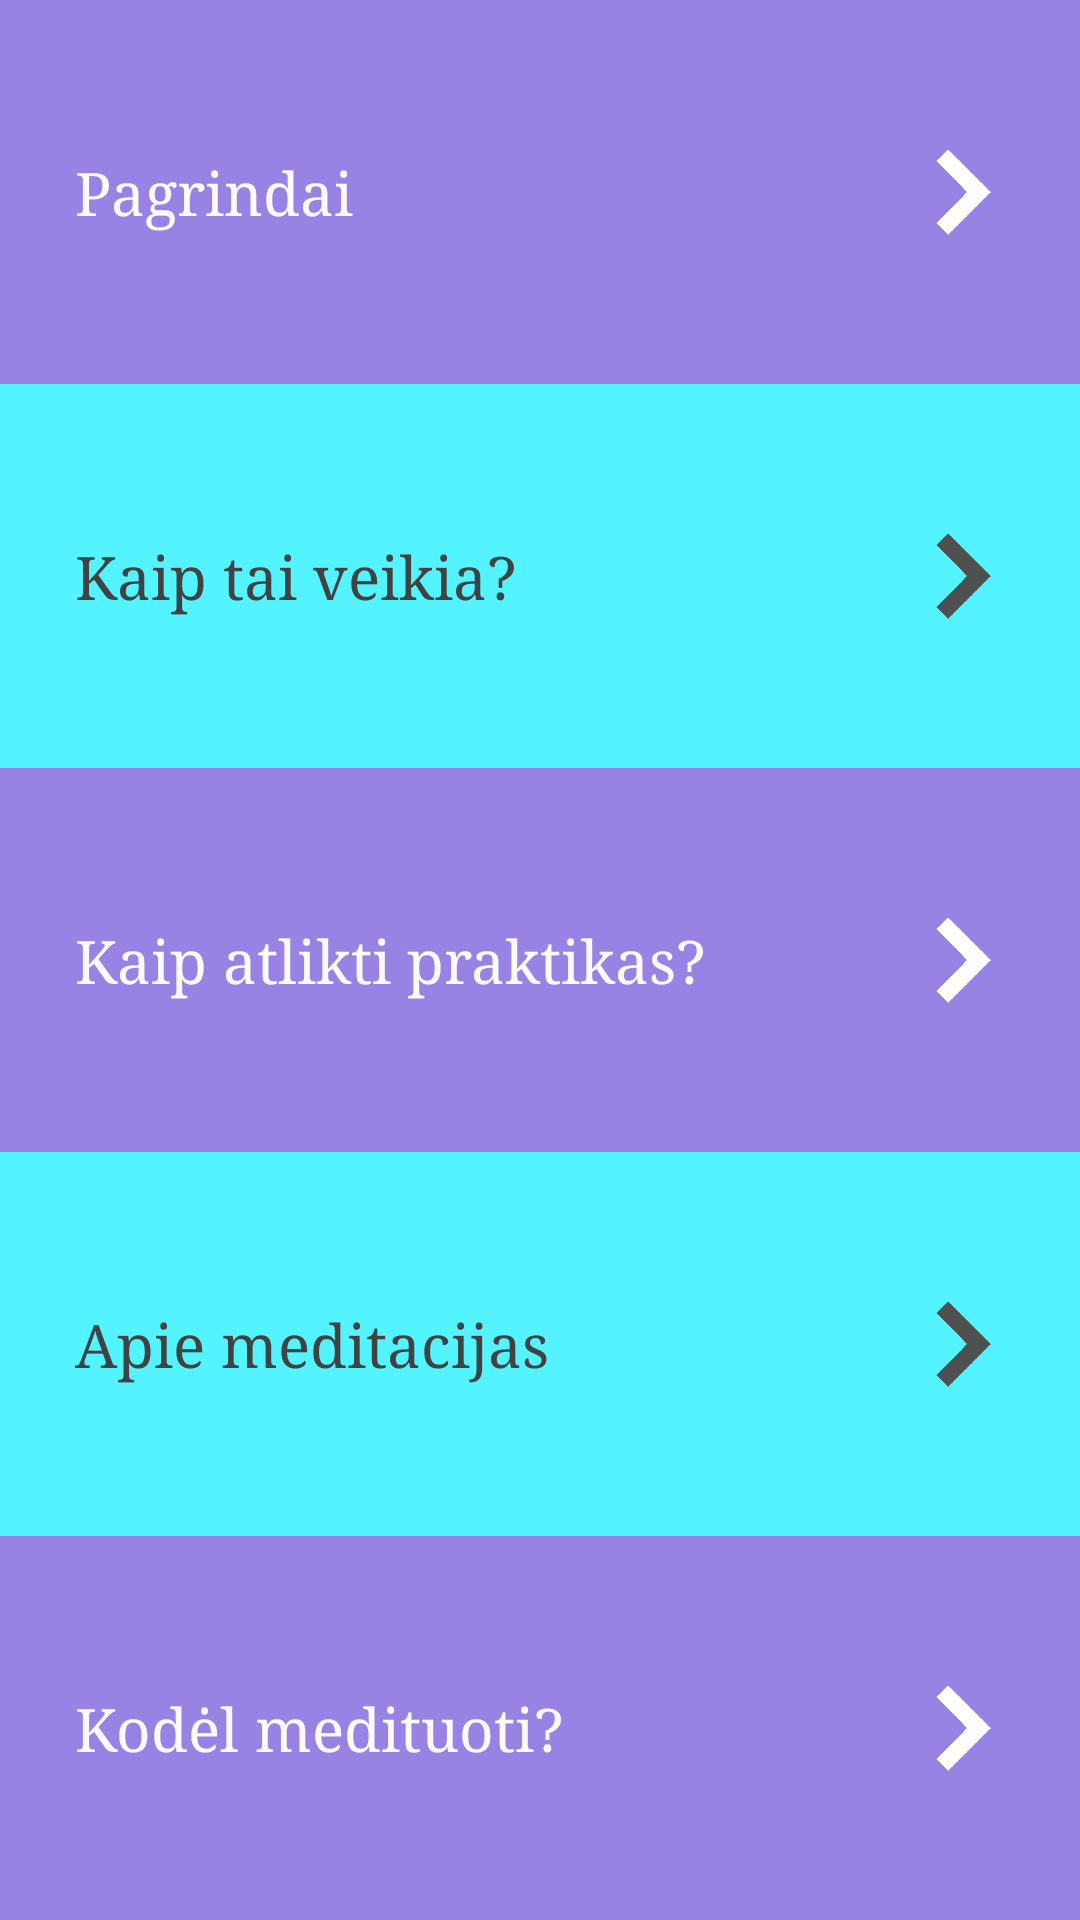

Point at icon controls on the screen. Image size 1080×1920, points as (x,y).
arrow: (964,192), (964,576), (964,960), (964,1344), (964,1728)
